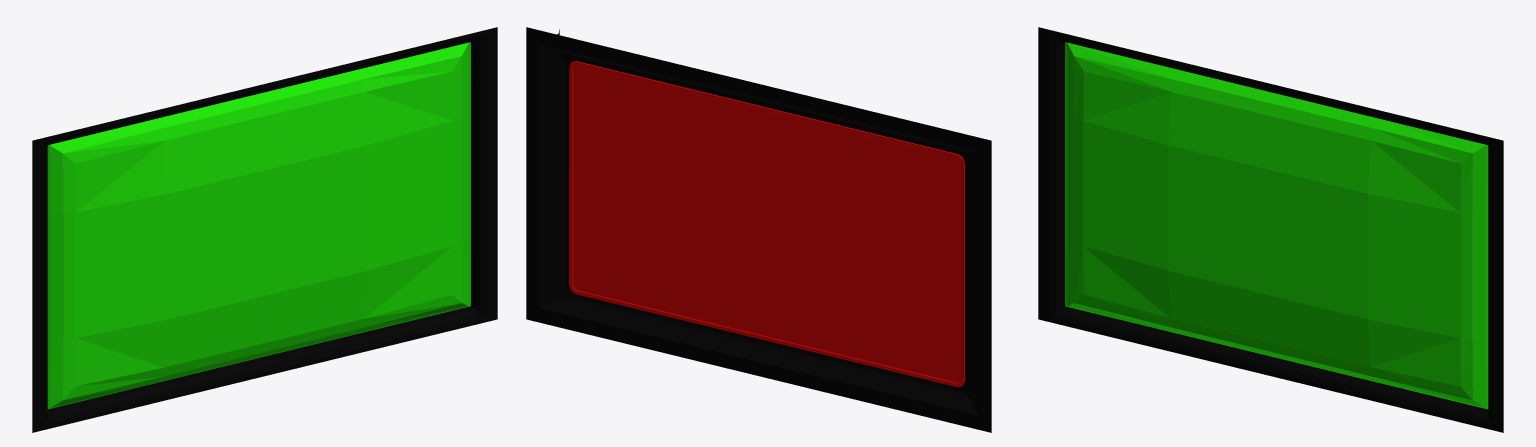
File: BedRoomFakeWindow_high.fbx
The picture shows the model from 3 angles, left to right: view 1: azimuth 30°, elevation 25°; view 2: azimuth 150°, elevation 25°; view 3: azimuth 330°, elevation 25°; orthographic projection.
Visible parts, largest first — view 1: BedroomFakeWindow_high; view 2: BedroomFakeWindow_high; view 3: BedroomFakeWindow_high.
Boxes of the visible parts, x1,y1,x2,y2 form: BedroomFakeWindow_high: [32, 27, 497, 432]; BedroomFakeWindow_high: [526, 27, 991, 432]; BedroomFakeWindow_high: [1038, 27, 1503, 432].
Bounding box in the file's own units: 3 × 1.8 × 0.234.
